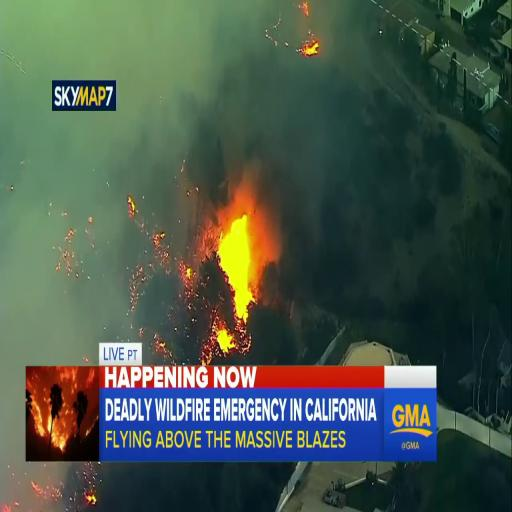fire: (212, 201, 262, 324), (300, 32, 320, 63), (126, 196, 136, 220)
smoke: (117, 0, 275, 177), (1, 175, 58, 363)
